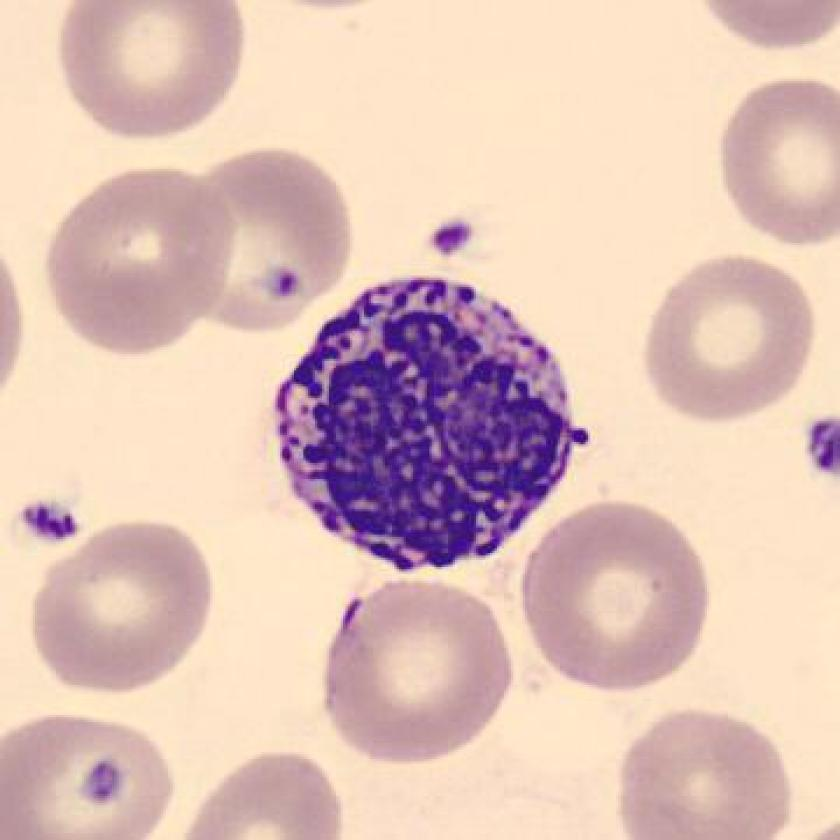basophil: (260, 253, 594, 584)
